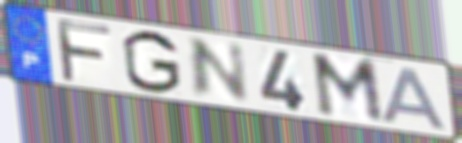4: (256, 46, 310, 114)
A: (380, 65, 452, 133)
F: (52, 16, 115, 85)
G: (119, 28, 184, 96)
M: (307, 51, 388, 127)
N: (187, 36, 253, 104)
